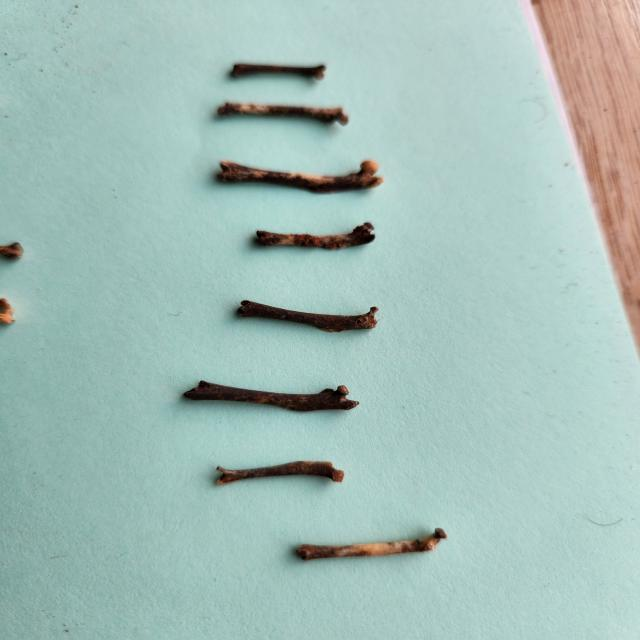fossil: (207, 149, 386, 208), (175, 371, 370, 424), (284, 523, 460, 573), (230, 292, 391, 342), (208, 91, 356, 132), (245, 217, 386, 259), (205, 454, 352, 493), (218, 54, 343, 88), (0, 294, 18, 333), (0, 240, 28, 261)
